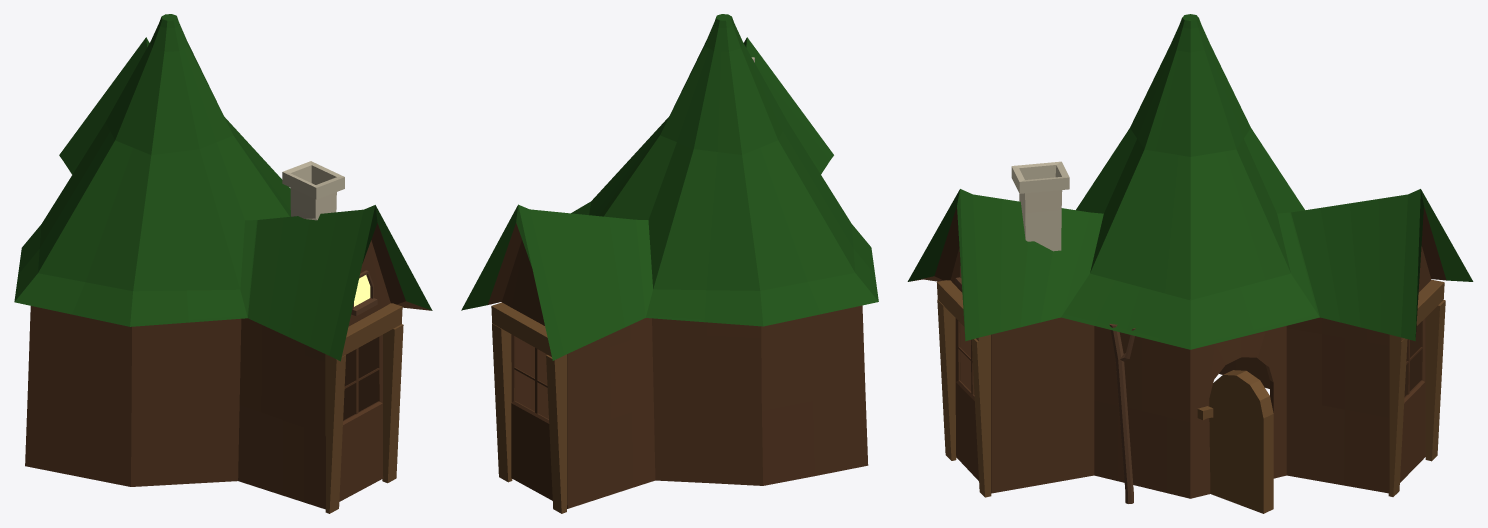
The model's file is HouseLP 1.fbx.
3 renders of one model, left to right at view 1: azimuth 30°, elevation 25°; view 2: azimuth 150°, elevation 25°; view 3: azimuth 270°, elevation 25°, orthographic.
Parts seen in each view (by area): view 1: House, SideFrame, Chimney, TopWindow; view 2: House, SideFrame.001; view 3: House, Door, SideFrame.001, SideFrame, Chimney, WoodRailing.
Part boxes in pixels (box(x1,y1,x2,y2)): House: box(14, 14, 432, 509); SideFrame: box(325, 303, 403, 513); Chimney: box(282, 161, 344, 220); TopWindow: box(351, 270, 377, 316); House: box(461, 14, 878, 508); SideFrame.001: box(491, 302, 567, 513); House: box(907, 14, 1473, 498); Door: box(1209, 370, 1273, 513); SideFrame.001: box(1388, 280, 1445, 496); SideFrame: box(936, 280, 991, 497); Chimney: box(1011, 161, 1069, 251); WoodRailing: box(1109, 324, 1135, 503).
Bounding box in the file's own units: 1.62 × 1.99 × 2.44.
